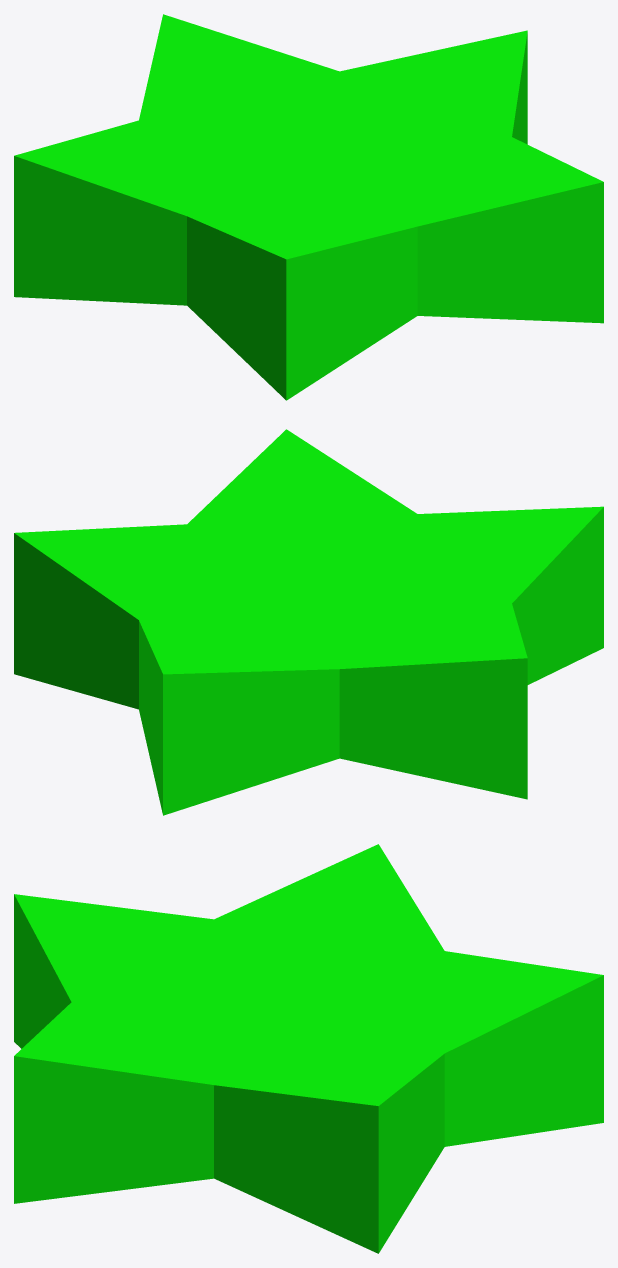
Rendered from green_star.gltf.
The picture shows the model from 3 angles, top to bottom: view 1: azimuth 30°, elevation 25°; view 2: azimuth 150°, elevation 25°; view 3: azimuth 270°, elevation 25°; orthographic projection. The views are drawn at different scales.
Visible parts, largest first — view 1: Star; view 2: Star; view 3: Star.
Boxes of the visible parts, bbox=[...] form: Star: bbox=[14, 14, 603, 400]; Star: bbox=[14, 429, 603, 815]; Star: bbox=[14, 844, 603, 1253].
Size of the model in its own units: 0.1902 by 0.05 by 0.1809.
